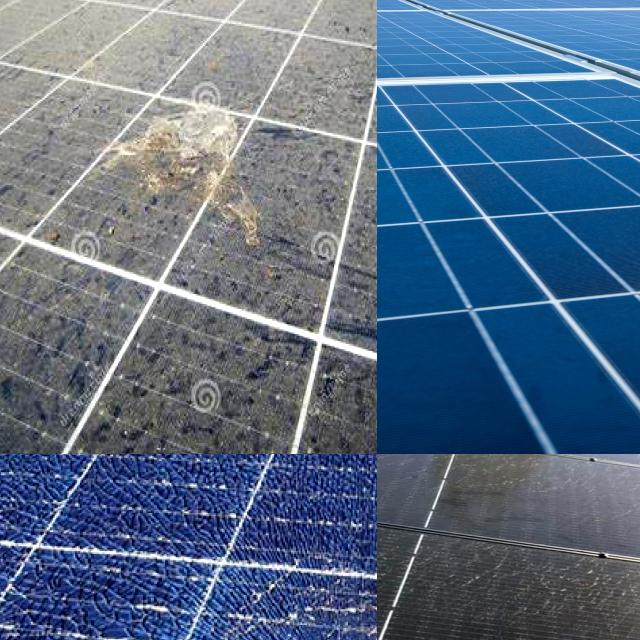bird: (85, 89, 294, 256)
crack: (377, 79, 640, 454)
dust: (426, 517, 640, 640), (377, 502, 470, 608), (462, 454, 627, 505)
hotspot: (44, 488, 270, 640), (321, 469, 377, 605)
